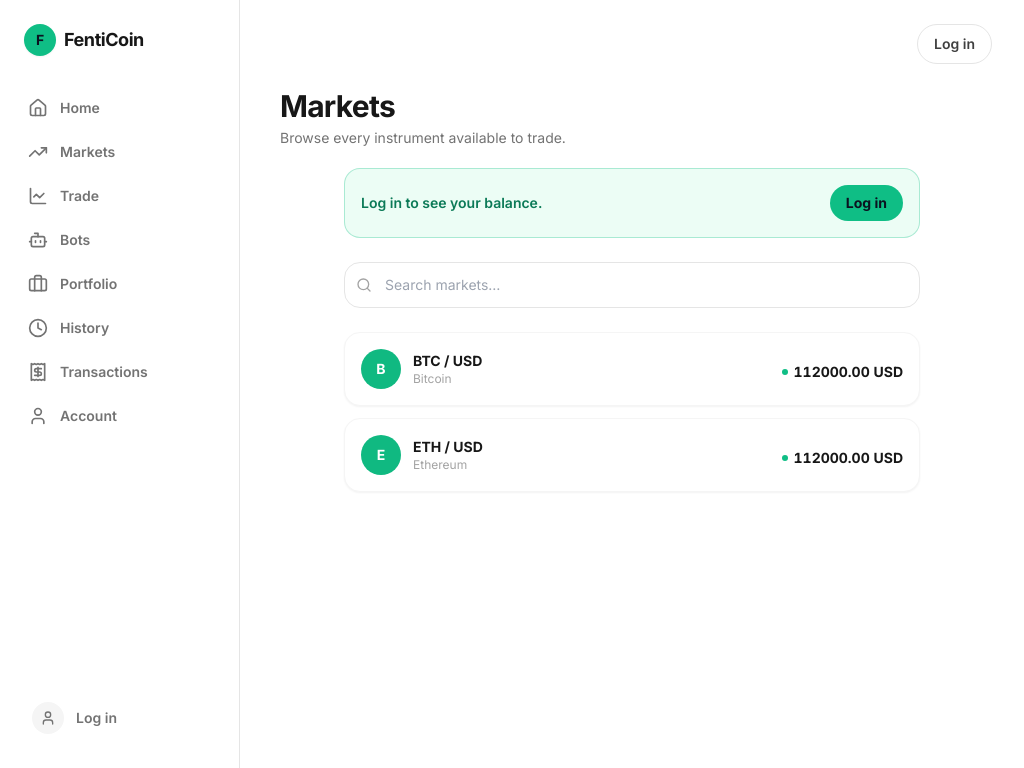
Test: MarketsPage › filters by search term client-side
Expected: the text "BTC / USD" is shown, [413,351,482,371]
In the search field labelled "Search markets…": (632, 285) [344,262,920,308], type "ether"
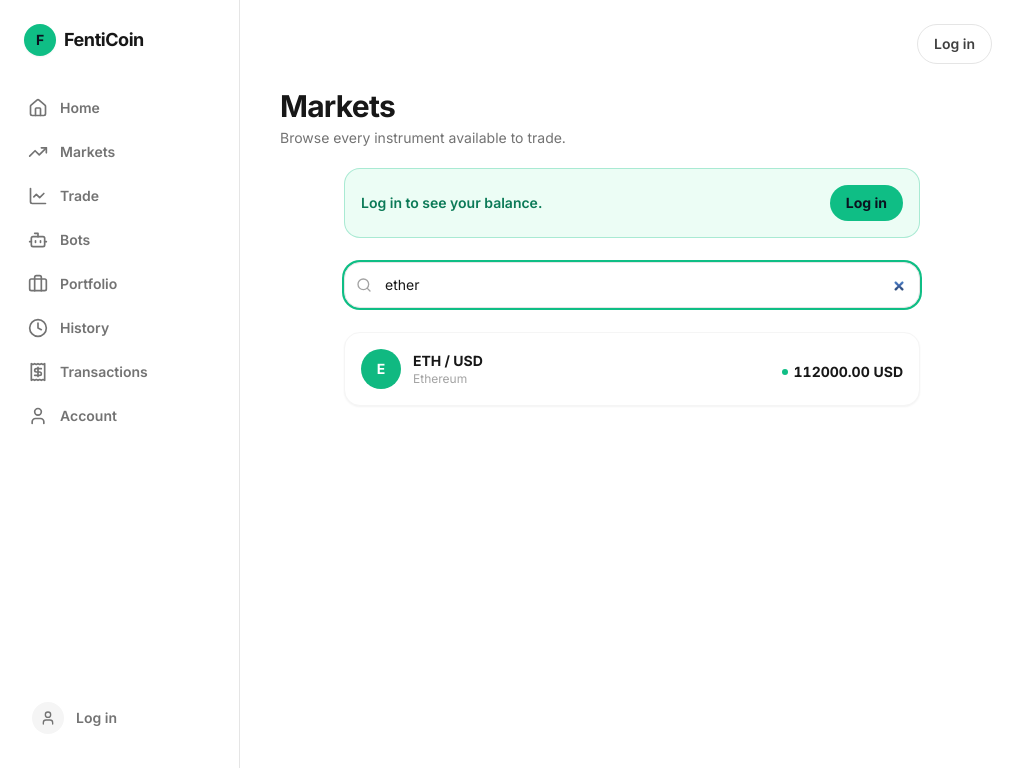
Expected: the text "ETH / USD" is shown, [413,351,483,371]
Expected: the link "BTC / USD" is gone
